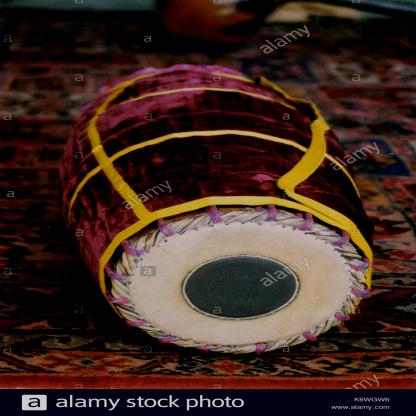Mridangam: (46, 53, 389, 359)
